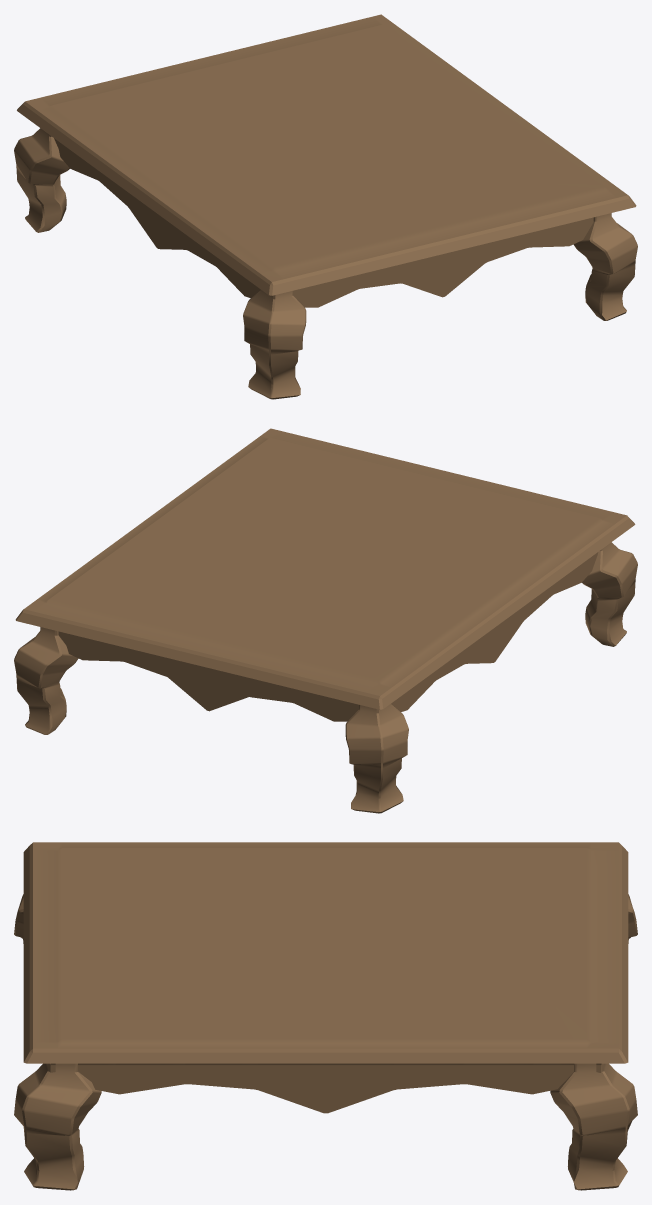
Rendered from PAST-CoffeeTable.fbx.
3 views of the same model, one above another, from view 1: azimuth 30°, elevation 25°; view 2: azimuth 150°, elevation 25°; view 3: azimuth 270°, elevation 25° (orthographic). The views are drawn at different scales.
Parts seen in each view (by area): view 1: CoffeeTable; view 2: CoffeeTable; view 3: CoffeeTable.
Boxes of the visible parts, x1=… form: CoffeeTable: x1=14, y1=14, x2=637, y2=399; CoffeeTable: x1=14, y1=428, x2=637, y2=813; CoffeeTable: x1=14, y1=842, x2=637, y2=1190.
Size of the model in its own units: 360 by 109 by 432.
